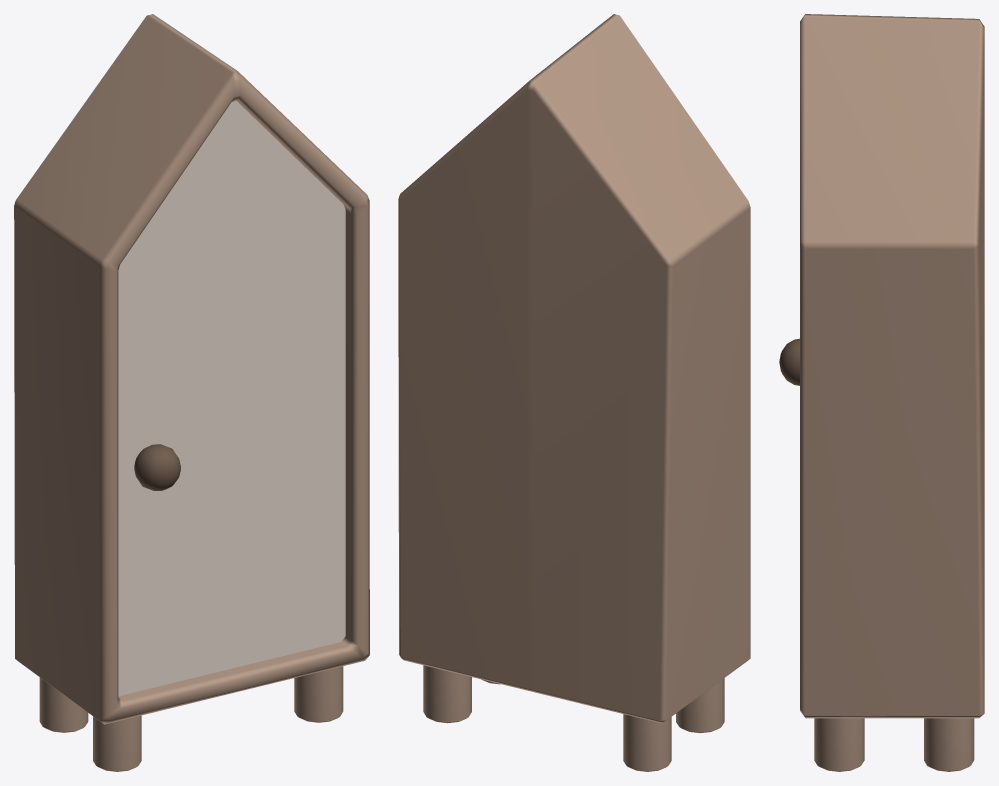
Rendered from Cabinet_1.glb.
3 renders of one model, left to right at view 1: azimuth 30°, elevation 25°; view 2: azimuth 150°, elevation 25°; view 3: azimuth 270°, elevation 25°, orthographic. The views are drawn at different scales.
Visible parts, largest first — view 1: Cabinet_9; view 2: Cabinet_9; view 3: Cabinet_9.
Part boxes in pixels (x1,y1,x2,y2): Cabinet_9: (14, 14, 369, 771); Cabinet_9: (398, 14, 750, 771); Cabinet_9: (779, 14, 984, 771).
Bounding box in the file's own units: 1.05 × 2.46 × 0.6582.
Materials: 1 (1 with a texture image).
